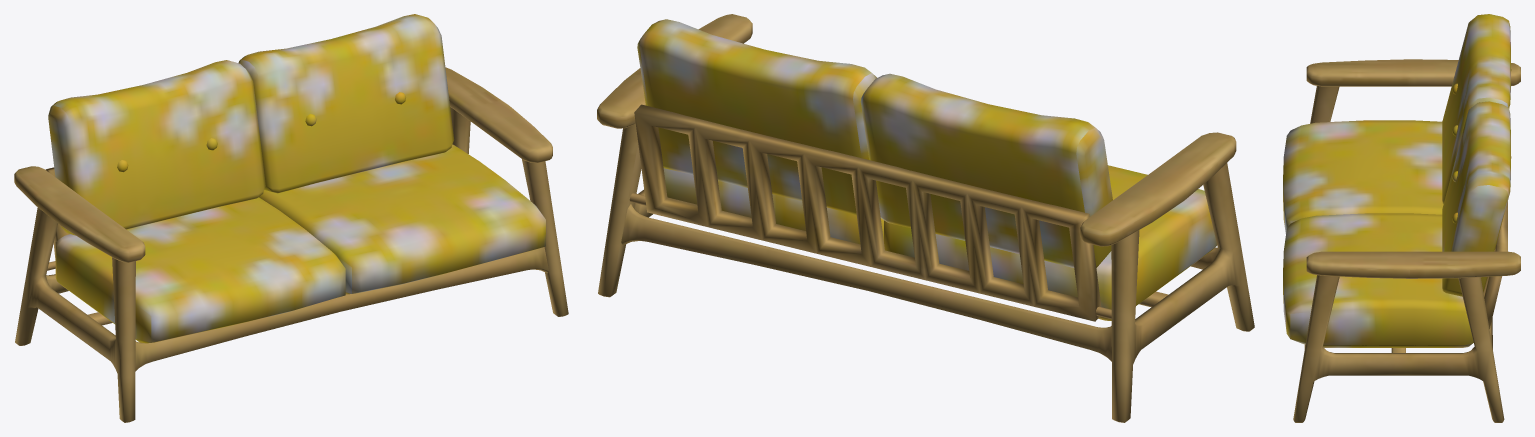
The picture shows the model from 3 angles, left to right: view 1: azimuth 30°, elevation 25°; view 2: azimuth 150°, elevation 25°; view 3: azimuth 270°, elevation 25°; orthographic projection. The views are drawn at different scales.
Bounding box in the file's own units: 19.83 × 9.9 × 9.53.
2 materials, 2 textured.
